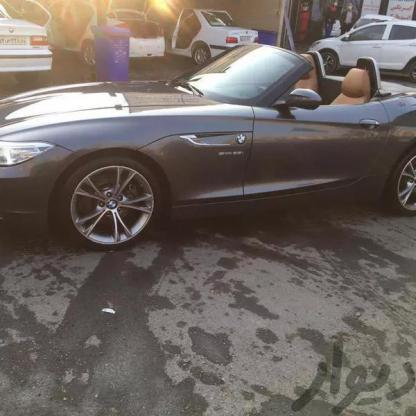Car: (0, 66, 416, 240), (321, 11, 416, 94), (80, 2, 170, 75), (163, 0, 249, 67), (0, 6, 57, 86)
